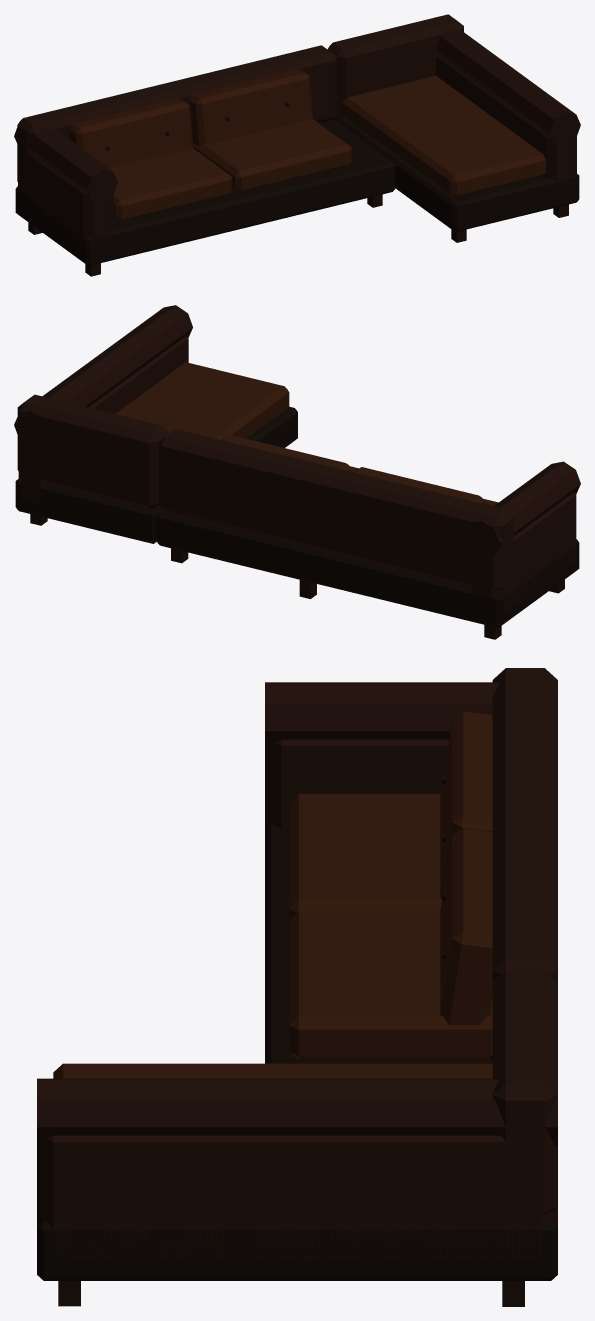
The model's file is SM_Hide_Couch_Sectional_Brown.glb.
The picture shows the model from 3 angles, top to bottom: view 1: azimuth 30°, elevation 25°; view 2: azimuth 150°, elevation 25°; view 3: azimuth 270°, elevation 25°; orthographic projection. The views are drawn at different scales.
Visible parts, largest first — view 1: SM_Hide_Couch_Sectional_Brown-col; view 2: SM_Hide_Couch_Sectional_Brown-col; view 3: SM_Hide_Couch_Sectional_Brown-col.
Part boxes in pixels (x1,y1,x2,y2): SM_Hide_Couch_Sectional_Brown-col: [14, 14, 580, 276]; SM_Hide_Couch_Sectional_Brown-col: [14, 305, 580, 639]; SM_Hide_Couch_Sectional_Brown-col: [37, 668, 557, 1306].
Bounding box in the file's own units: 3.1 × 0.76 × 1.6.
